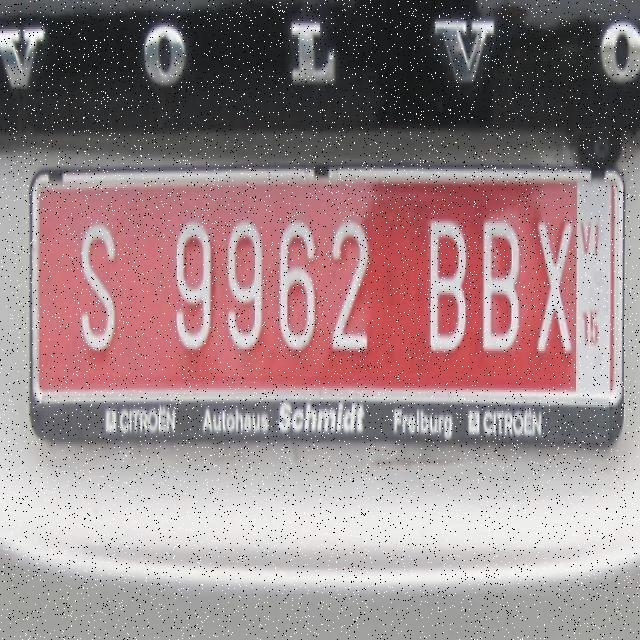LicensePlate: (19, 126, 631, 485)
